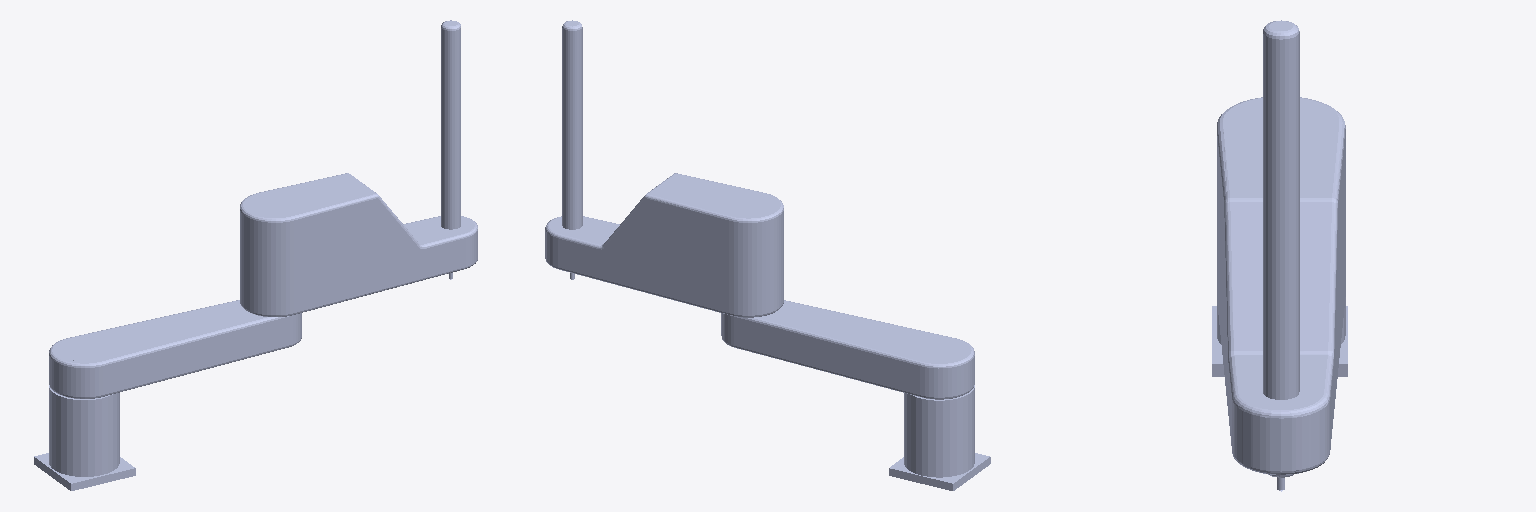
The robot description file, URDF, robot "Scara Assembly1":
<?xml version="1.0" encoding="utf-8"?>
<!-- This URDF was automatically created by SolidWorks to URDF Exporter! Originally created by Stephen Brawner (brawner@gmail.com) 
     Commit Version: 1.6.0-4-g7f85cfe  Build Version: 1.6.7995.38578
     For more information, please see http://wiki.ros.org/sw_urdf_exporter -->
<robot
  name="Scara Assembly1">
  <link
    name="base_link">
    <inertial>
      <origin
        xyz="0 0.00168973878682044 0.170983413772257"
        rpy="0 0 0" />
      <mass
        value="12.181226944499" />
      <inertia
        ixx="0.17468466573427"
        ixy="4.15759959089047E-18"
        ixz="2.94980095631604E-18"
        iyy="0.17468082989543"
        iyz="-0.000359769710444839"
        izz="0.0648964003406475" />
    </inertial>
    <visual>
      <origin
        xyz="0 0 0"
        rpy="0 0 0" />
      <geometry>
        <mesh
          filename="package://scara_robot_pkg/meshes/base_link.STL" />
      </geometry>
      <material
        name="">
        <color
          rgba="0.792156862745098 0.819607843137255 0.933333333333333 1" />
      </material>
    </visual>
    <collision>
      <origin
        xyz="0 0 0"
        rpy="0 0 0" />
      <geometry>
        <mesh
          filename="package://scara_robot_pkg/meshes/base_link.STL" />
      </geometry>
    </collision>
  </link>
  <link
    name="Link_1">
    <inertial>
      <origin
        xyz="0.315679111493496 0.00187609751792639 0.3325"
        rpy="0 0 0" />
      <mass
        value="13.501384910232" />
      <inertia
        ixx="0.0572222535179723"
        ixy="-9.50127835777007E-18"
        ixz="3.46444638425626E-18"
        iyy="0.554053995069199"
        iyz="-3.86417274088145E-18"
        izz="0.581830457702875" />
    </inertial>
    <visual>
      <origin
        xyz="0 0 0"
        rpy="0 0 0" />
      <geometry>
        <mesh
          filename="package://scara_robot_pkg/meshes/Link_1.STL" />
      </geometry>
      <material
        name="">
        <color
          rgba="0.792156862745098 0.819607843137255 0.933333333333333 1" />
      </material>
    </visual>
    <collision>
      <origin
        xyz="0 0 0"
        rpy="0 0 0" />
      <geometry>
        <mesh
          filename="package://scara_robot_pkg/meshes/Link_1.STL" />
      </geometry>
    </collision>
  </link>
  <joint
    name="Joint_1"
    type="revolute">
    <origin
      xyz="0 0 0"
      rpy="0 0 0" />
    <parent
      link="base_link" />
    <child
      link="Link_1" />
    <axis
      xyz="0 0 -1" />
    <limit
      lower="-2.53"
      upper="2.53"
      effort="0"
      velocity="7.1" />
  </joint>
  <link
    name="Link_2">
    <inertial>
      <origin
        xyz="0.190594383553034 8.92086404746806E-12 0.251287080531013"
        rpy="0 0 0" />
      <mass
        value="35.3260682085601" />
      <inertia
        ixx="0.434226114580085"
        ixy="-3.43699463108326E-11"
        ixz="0.141807287426322"
        iyy="1.54310732304715"
        iyz="-3.01122719618856E-11"
        izz="1.31387961173795" />
    </inertial>
    <visual>
      <origin
        xyz="0 0 0"
        rpy="0 0 0" />
      <geometry>
        <mesh
          filename="package://scara_robot_pkg/meshes/Link_2.STL" />
      </geometry>
      <material
        name="">
        <color
          rgba="0.792156862745098 0.819607843137255 0.933333333333333 1" />
      </material>
    </visual>
    <collision>
      <origin
        xyz="0 0 0"
        rpy="0 0 0" />
      <geometry>
        <mesh
          filename="package://scara_robot_pkg/meshes/Link_2.STL" />
      </geometry>
    </collision>
  </link>
  <joint
    name="Joint_2"
    type="revolute">
    <origin
      xyz="0.65 0.00187609751792639 0.275"
      rpy="0 0 0" />
    <parent
      link="Link_1" />
    <child
      link="Link_2" />
    <axis
      xyz="0 0 1" />
    <limit
      lower="-2.53"
      upper="2.53"
      effort="0"
      velocity="9.14" />
  </joint>
  <link
    name="Link_3">
    <inertial>
      <origin
        xyz="-2.22044604925031E-16 -2.22044604925031E-16 0.400848368011618"
        rpy="0 0 0" />
      <mass
        value="2.2590769242565" />
      <inertia
        ixx="0.119959265282819"
        ixy="-4.24291955451419E-21"
        ixz="-4.13754800332627E-20"
        iyy="0.119959265282819"
        iyz="-1.30016903886111E-19"
        izz="0.00101213903600915" />
    </inertial>
    <visual>
      <origin
        xyz="0 0 0"
        rpy="0 0 0" />
      <geometry>
        <mesh
          filename="package://scara_robot_pkg/meshes/Link_3.STL" />
      </geometry>
      <material
        name="">
        <color
          rgba="0.792156862745098 0.819607843137255 0.933333333333333 1" />
      </material>
    </visual>
    <collision>
      <origin
        xyz="0 0 0"
        rpy="0 0 0" />
      <geometry>
        <mesh
          filename="package://scara_robot_pkg/meshes/Link_3.STL" />
      </geometry>
    </collision>
  </link>
  <joint
    name="Joint_3"
    type="prismatic">
    <origin
      xyz="0.6 0 0.886978614262261"
      rpy="3.14159265358979 0 0" />
    <parent
      link="Link_2" />
    <child
      link="Link_3" />
    <axis
      xyz="0 0 -1" />
    <limit
      lower="-0.45"
      upper="0"
      effort="0"
      velocity="2.24" />
  </joint>
  <link
    name="Link_4">
    <inertial>
      <origin
        xyz="-2.22044604925031E-16 0 -0.00126874999999993"
        rpy="0 0 0" />
      <mass
        value="5.61232437594433E-05" />
      <inertia
        ixx="1.50285331365377E-10"
        ixy="-1.05664104903945E-26"
        ixz="-9.29971021358974E-30"
        iyy="1.50285331365377E-10"
        iyz="8.77391512839114E-27"
        izz="1.85627628734358E-10" />
    </inertial>
    <visual>
      <origin
        xyz="0 0 0"
        rpy="0 0 0" />
      <geometry>
        <mesh
          filename="package://scara_robot_pkg/meshes/Link_4.STL" />
      </geometry>
      <material
        name="">
        <color
          rgba="0.792156862745098 0.819607843137255 0.933333333333333 1" />
      </material>
    </visual>
    <collision>
      <origin
        xyz="0 0 0"
        rpy="0 0 0" />
      <geometry>
        <mesh
          filename="package://scara_robot_pkg/meshes/Link_4.STL" />
      </geometry>
    </collision>
  </link>
  <joint
    name="Joint_4"
    type="revolute">
    <origin
      xyz="0 0 0.8335"
      rpy="0 0 0" />
    <parent
      link="Link_3" />
    <child
      link="Link_4" />
    <axis
      xyz="0 0 -1" />
    <limit
      lower="-6.98"
      upper="6.98"
      effort="0"
      velocity="29.7" />
  </joint>
</robot>

--- What the picture shows (computed from the rendered views, not written in the file) ---
The picture shows the robot from 3 angles, left to right: view 1: azimuth 30°, elevation 25°; view 2: azimuth 150°, elevation 25°; view 3: azimuth 270°, elevation 25°; orthographic projection.
Model Scara Assembly1 with 5 links and 4 joints (3 revolute, 1 prismatic), rooted at base_link, posed all joints at 0.
Visible links, largest first — view 1: Link_2, Link_1, base_link, Link_3; view 2: Link_2, Link_1, base_link, Link_3; view 3: Link_2, Link_3, base_link.
Boxes of the visible links, x1=… form: Link_2: x1=240, y1=173, x2=477, y2=316; Link_1: x1=49, y1=300, x2=301, y2=398; base_link: x1=34, y1=339, x2=135, y2=490; Link_3: x1=441, y1=20, x2=460, y2=278; Link_2: x1=545, y1=173, x2=783, y2=317; Link_1: x1=721, y1=300, x2=974, y2=399; base_link: x1=889, y1=339, x2=990, y2=490; Link_3: x1=562, y1=20, x2=582, y2=279; Link_2: x1=1217, y1=97, x2=1345, y2=474; Link_3: x1=1263, y1=20, x2=1299, y2=489; base_link: x1=1212, y1=297, x2=1347, y2=376.
Size in the robot's own frame: 1.44 by 0.22 by 1.16 metres.
5 mesh visuals loaded from 5 distinct referenced files (5 binary STL).
